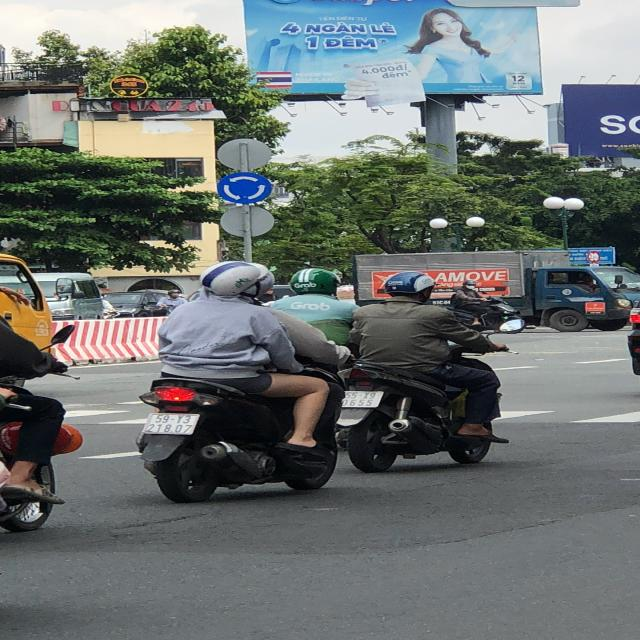Bien bao noi giao nhau chay theo vong xuyen: (215, 170, 278, 206)
